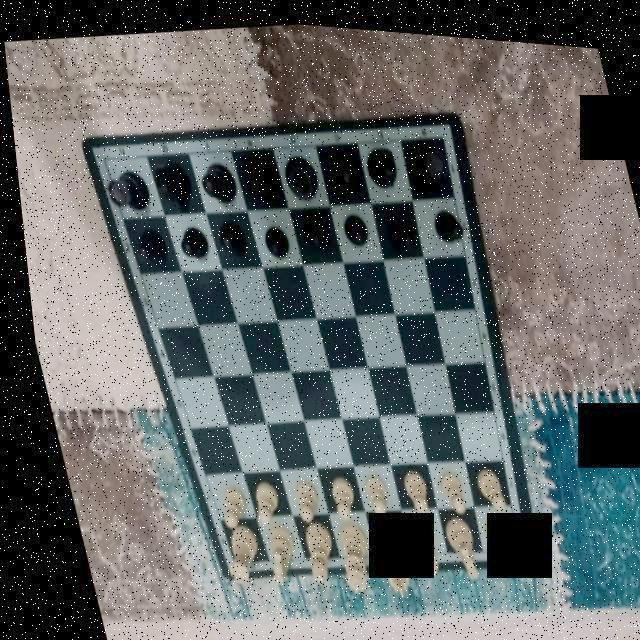chess-table-corners: (94, 148, 109, 166), (502, 534, 516, 552), (435, 122, 448, 138)
